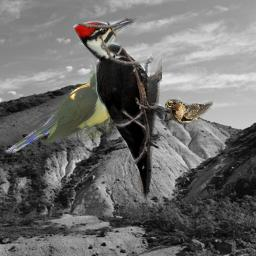Cuckoo: (4, 69, 122, 153)
Swallow: (165, 99, 213, 125)
Woodpecker: (73, 16, 162, 208)
